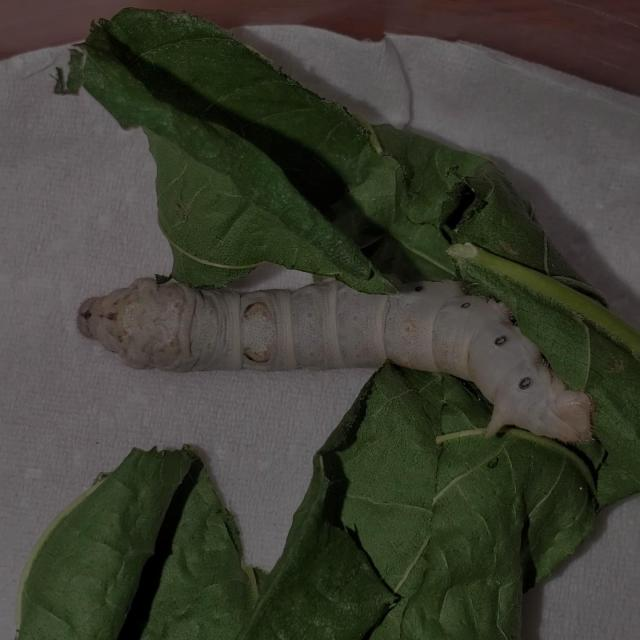Healthy: (68, 255, 601, 459)
